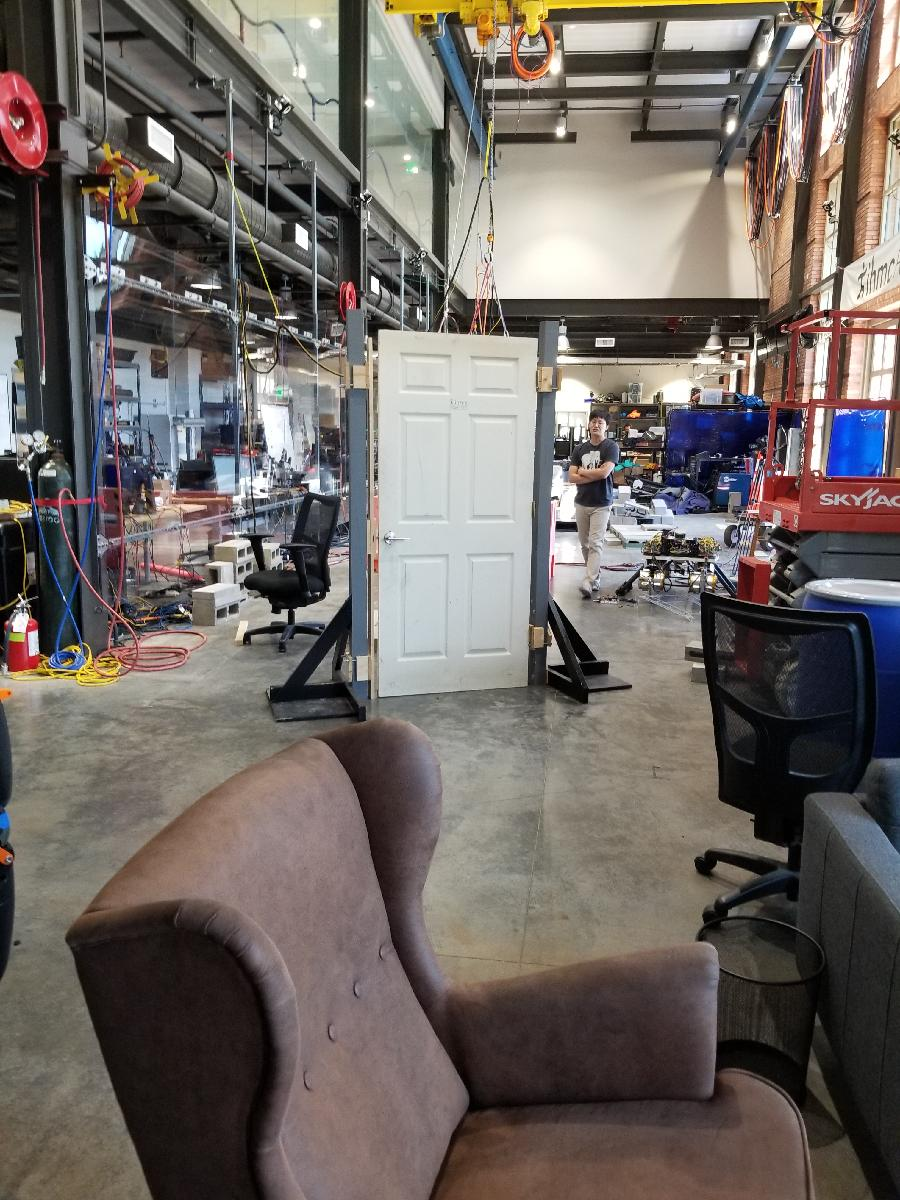door: (373, 326, 540, 702)
doorHandle: (377, 532, 412, 554)
